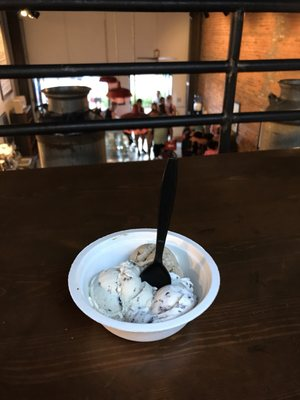salad: (139, 157, 178, 290)
sushi: (66, 228, 220, 343)
